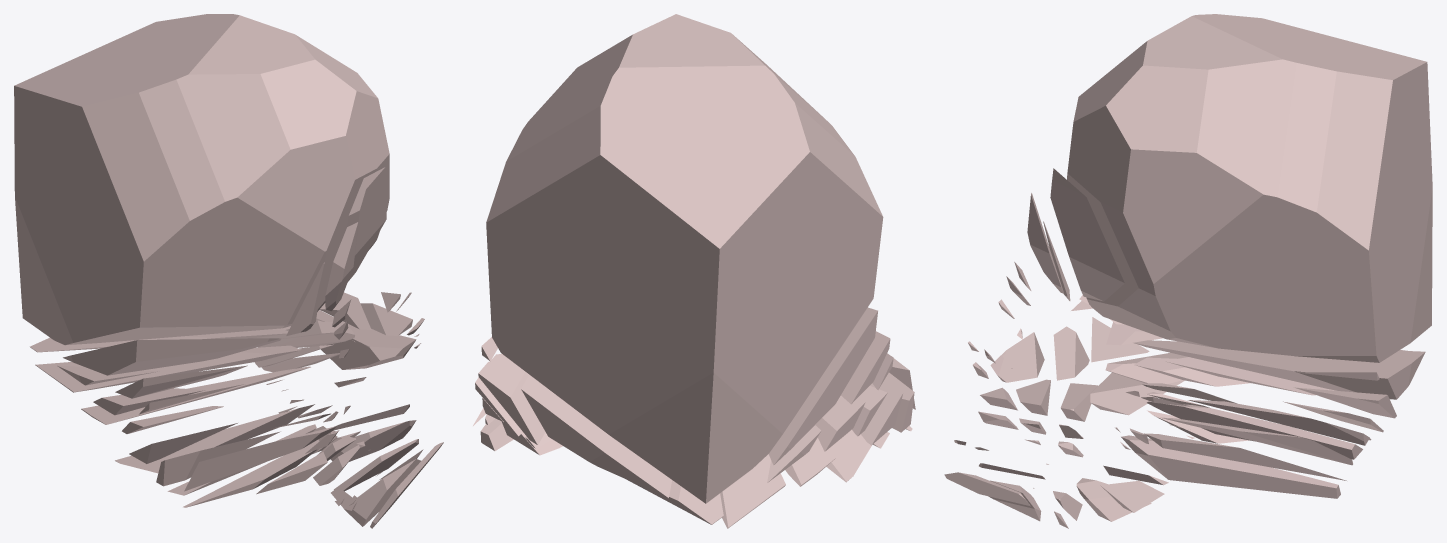
The model's file is gem_789979.gltf.
3 renders of one model, left to right at view 1: azimuth 30°, elevation 25°; view 2: azimuth 150°, elevation 25°; view 3: azimuth 270°, elevation 25°, orthographic. The views are drawn at different scales.
Size of the model in its own units: 1.42 by 1.88 by 1.87.
